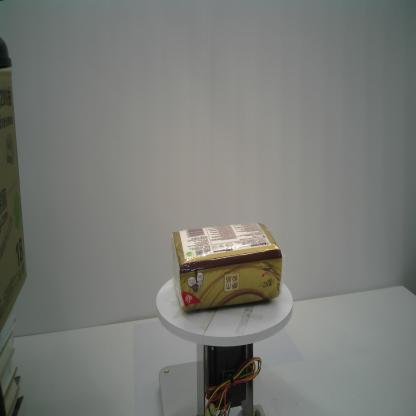Tissue: (169, 222, 286, 314)
